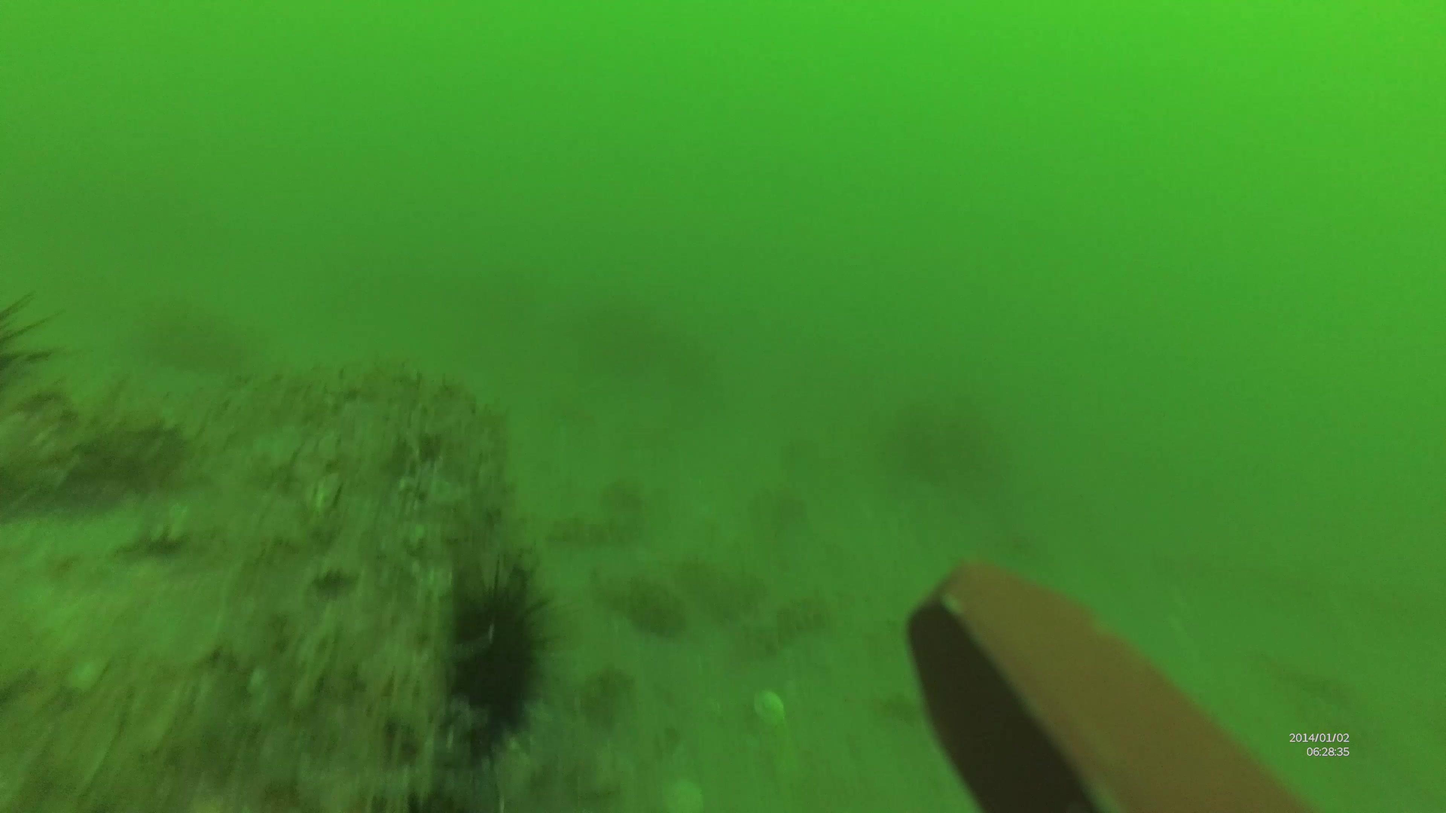starfish: (448, 561, 567, 768)
